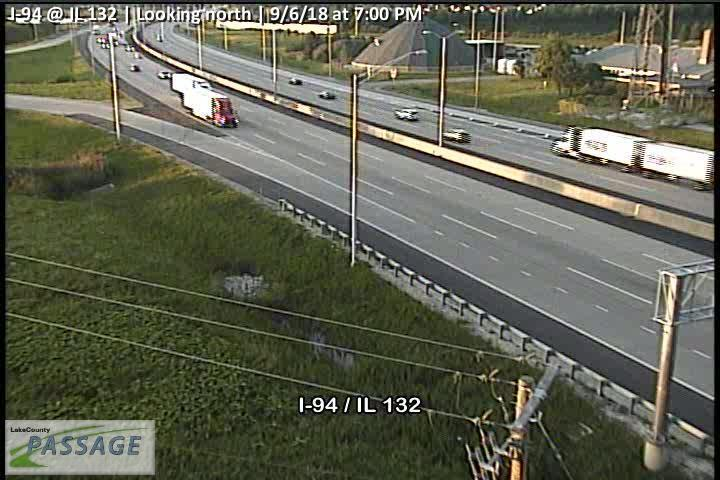Sedan: (443, 128, 473, 143), (396, 108, 416, 119), (320, 89, 334, 98), (157, 70, 171, 79)
Truck: (550, 126, 713, 192), (182, 87, 237, 128), (169, 72, 211, 95)
